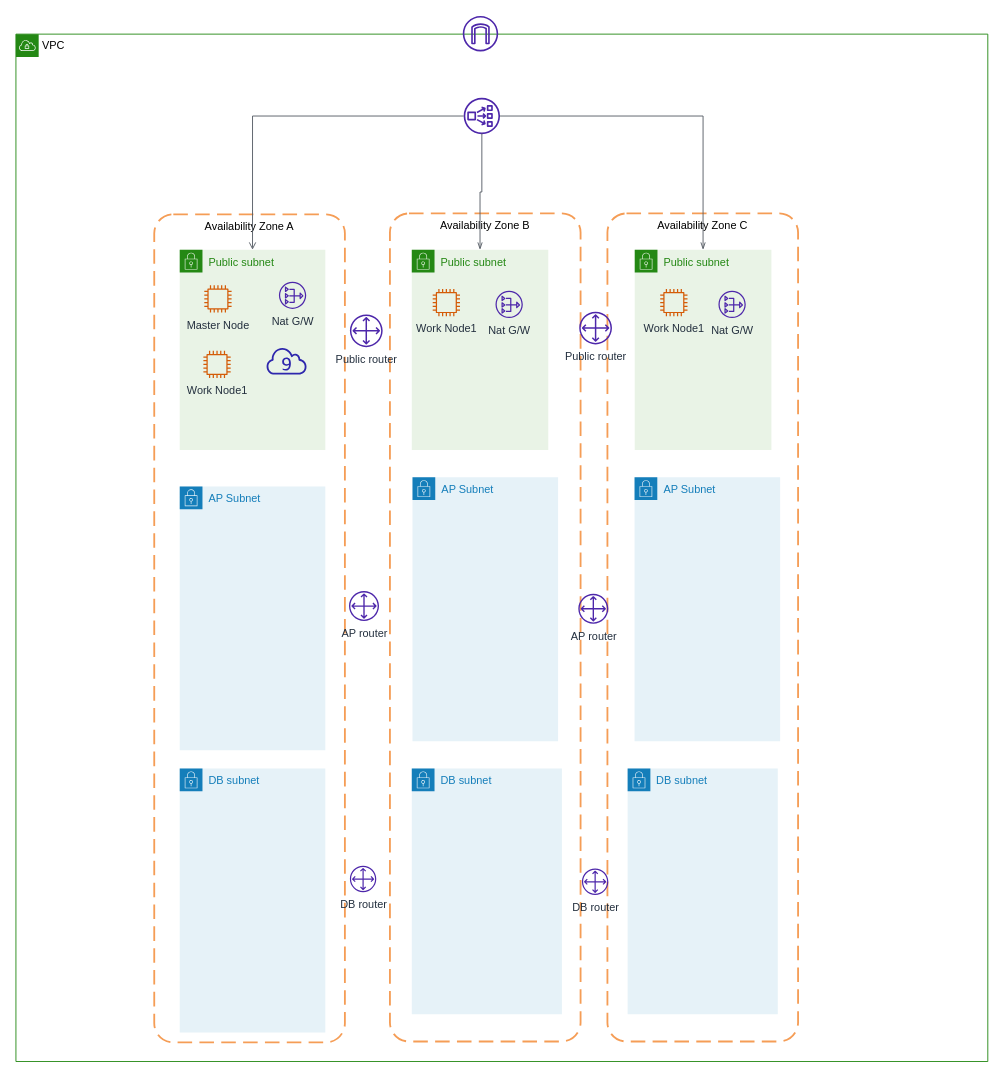
Some shapes in this 1004 by 1077 pixel diagram are drawn without their labels. The centre of each missing label's shape, as x and y in pixels:
"Cloud9" goes at point (286, 360).
"Internet gateway" goes at point (480, 33).
"Network loadbalance" goes at point (481, 115).
